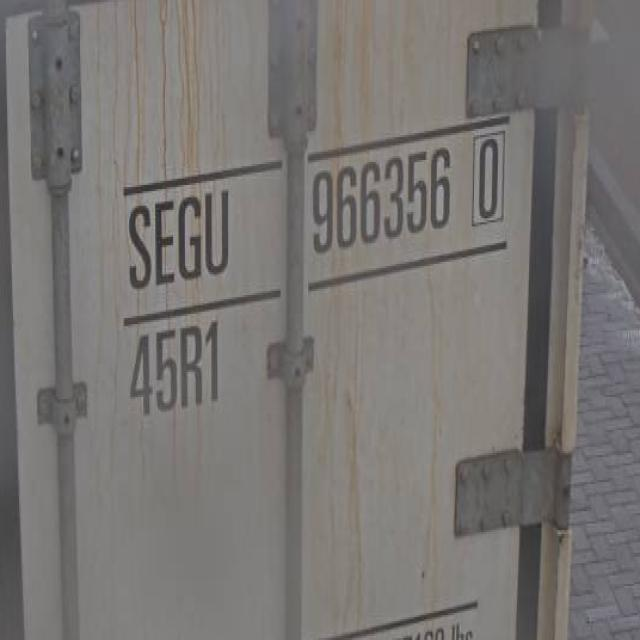dv: (468, 120, 508, 232)
owner: (111, 189, 242, 289)
serial: (298, 142, 458, 259)
size: (120, 313, 229, 422)
